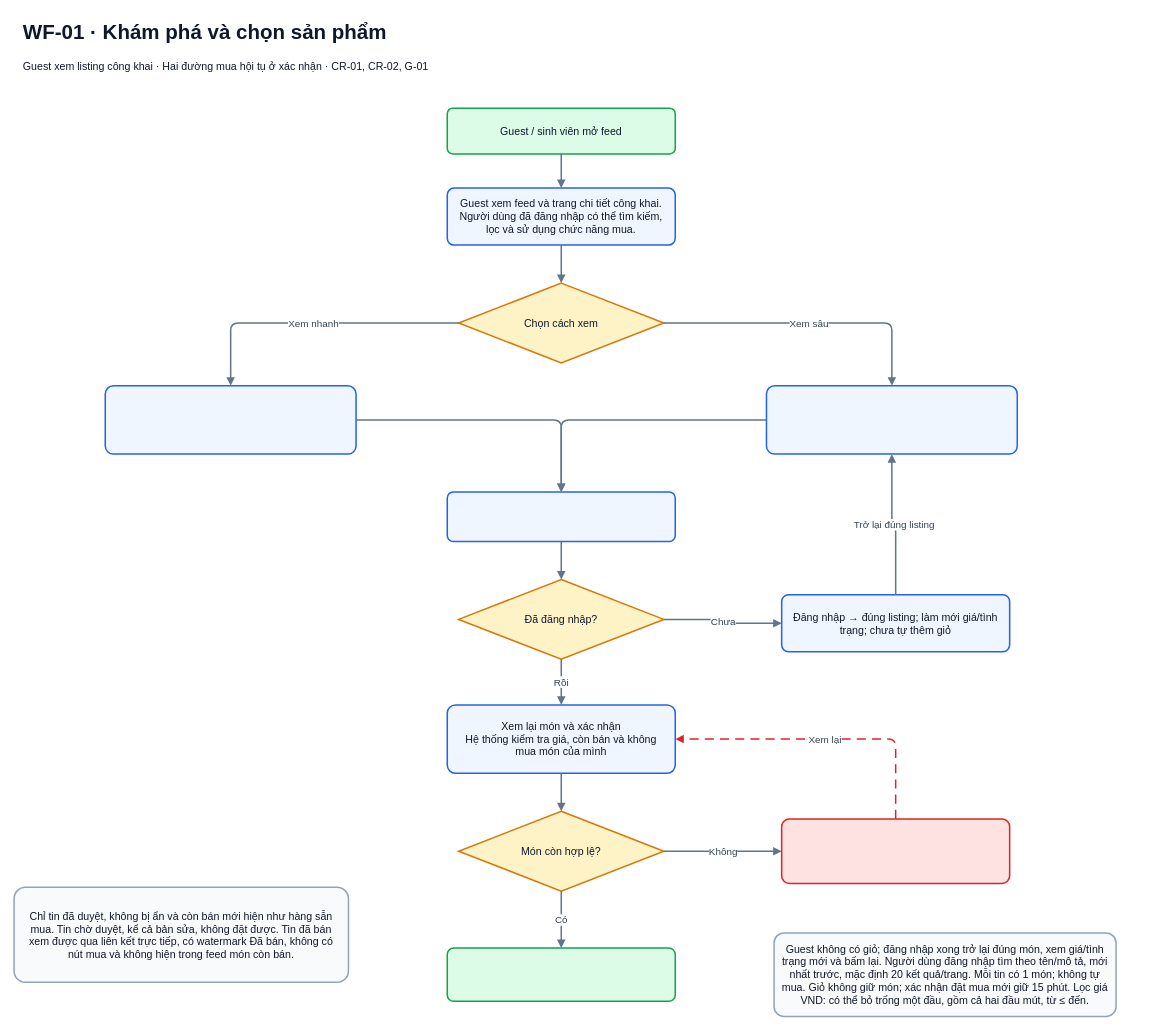
Some shapes in this 1174 by 1030 pixel diagram are drawn without their labels. Each missing label, with the centre of its shape:
Báo thay đổi / hết hàng Buyer chỉnh lại giỏ: the point at 895,851
Chuyển sang WF-03 · Checkout: the point at 561,974
Nhấn Mua ngay / Thêm giỏ: the point at 561,516
Popup xem nhanh ảnh, giá, size, lỗi, khu vực gửi hàng: the point at 230,419
Trang chi tiết độc lập gallery + thông tin đầy đủ: the point at 891,419
